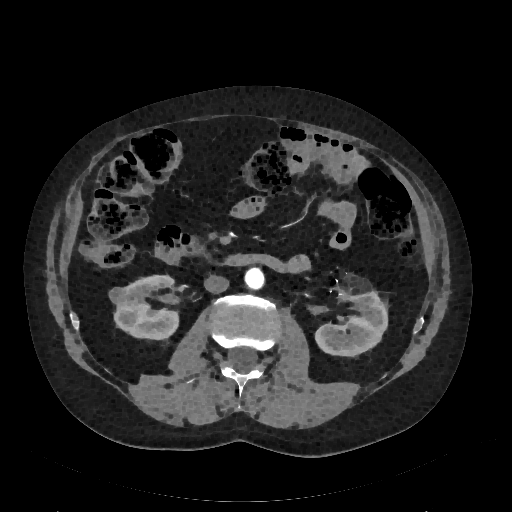Lesion: (108, 284, 129, 309)
